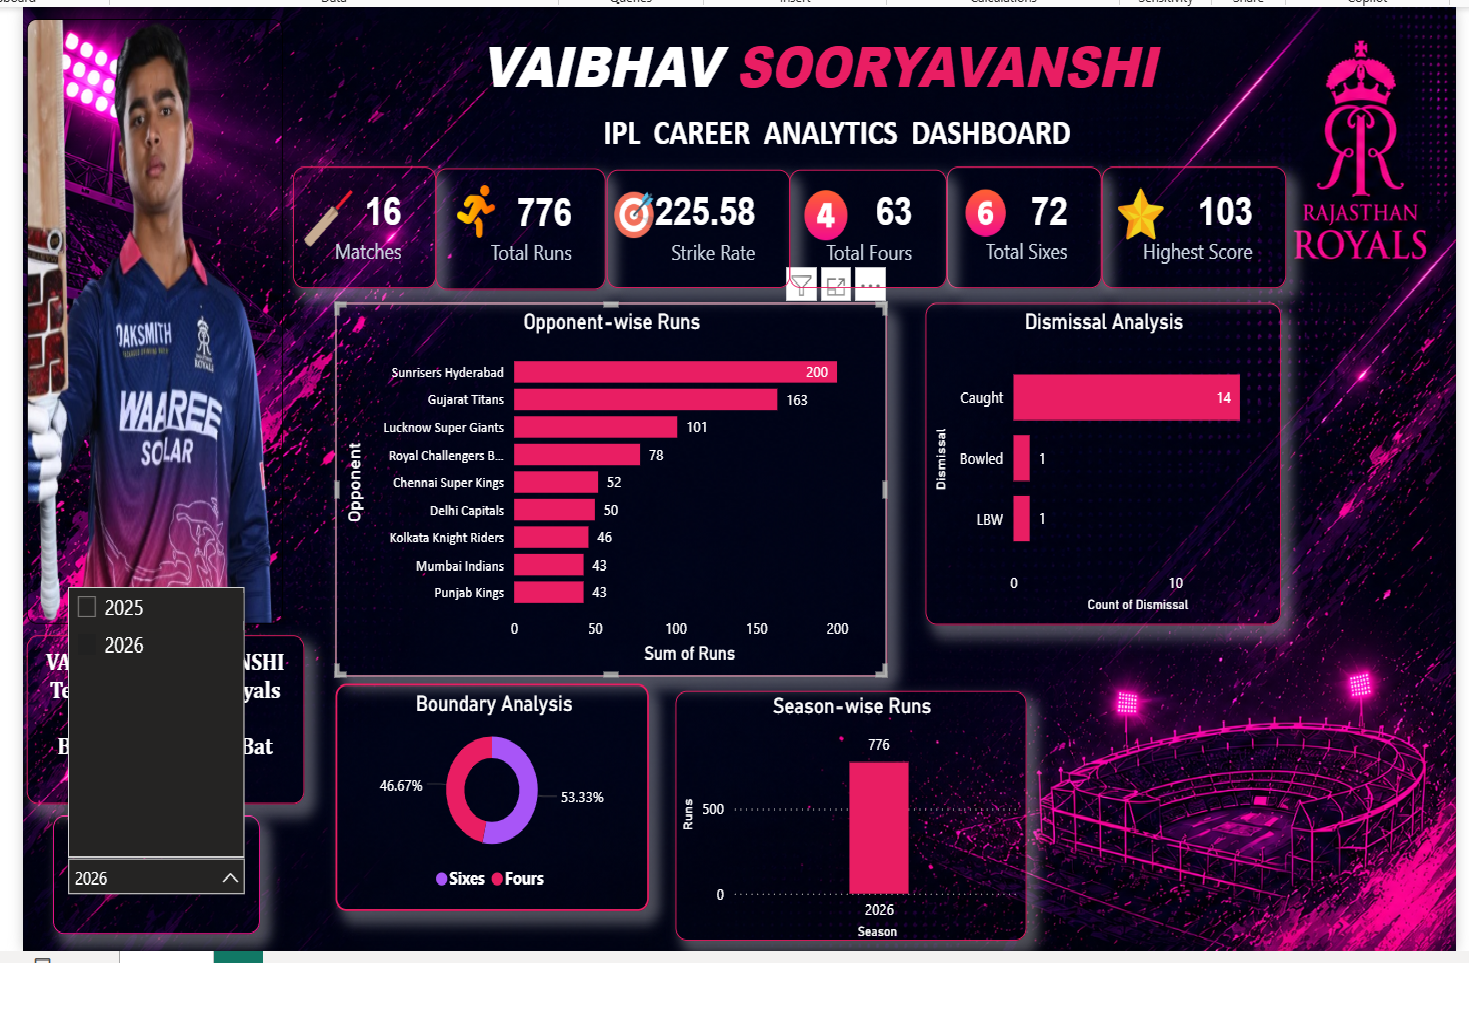

What the dashboard file says about the page in this screenshot:
{"tool":"powerbi","page":{"name":"Page 1","canvas":[1280,720],"ordinal":0},"visuals":[{"type":"cardVisual","fields":{"Data":["Vaibhav_Sooryavanshi_IPL_Dataset.Matches"]},"box":[240.7,122.1,127.9,93],"z":0},{"type":"barChart","title":"Opponent-wise Runs","fields":{"Category":["Vaibhav_Sooryavanshi_IPL_Dataset.Opponent"],"Y":["Sum(Vaibhav_Sooryavanshi_IPL_Dataset.Runs)"]},"box":[279.2,225.6,492.4,284.7],"z":1000},{"type":"clusteredColumnChart","title":"Season-wise Runs","fields":{"Category":["Vaibhav_Sooryavanshi_IPL_Dataset.Date.Variation.Date Hierarchy.Year"],"Y":["Vaibhav_Sooryavanshi_IPL_Dataset.Total Runs"]},"box":[582.6,520.9,314,190.7],"z":2000},{"type":"slicer","fields":{"Values":["Vaibhav_Sooryavanshi_IPL_Dataset.Season"]},"box":[26.7,616.3,184.9,90.7],"z":3000},{"type":"clusteredBarChart","title":"Dismissal Analysis","fields":{"Category":["Vaibhav_Sooryavanshi_IPL_Dataset.Dismissal"],"Y":["CountNonNull(Vaibhav_Sooryavanshi_IPL_Dataset.Dismissal)"]},"box":[805.8,225.6,317.4,245.3],"z":4000},{"type":"textbox","box":[3.5,479.1,247.7,129.1],"z":5000},{"type":"donutChart","title":"Boundary Analysis","fields":{"Category":["BoundaryType.BoundaryType"],"Y":["BoundaryType.Boundary Count"]},"box":[279.1,516.3,280.2,173.3],"z":6000},{"type":"cardVisual","fields":{"Data":["Vaibhav_Sooryavanshi_IPL_Dataset.Total Runs"]},"box":[368.6,123.3,152.3,93],"z":7000},{"type":"cardVisual","fields":{"Data":["Vaibhav_Sooryavanshi_IPL_Dataset.Strike Rate"]},"box":[520.9,124.4,164,90.7],"z":8000},{"type":"cardVisual","fields":{"Data":["Vaibhav_Sooryavanshi_IPL_Dataset.Total Sixes"]},"box":[825.6,122.1,138.4,93],"z":9000},{"type":"cardVisual","fields":{"Data":["Vaibhav_Sooryavanshi_IPL_Dataset.Highest Score"]},"box":[964,122.1,165.1,93],"z":10000},{"type":"cardVisual","fields":{"Data":["Vaibhav_Sooryavanshi_IPL_Dataset.Total Fours"]},"box":[684.9,124.4,140.7,90.7],"z":11000},{"type":"image","box":[527.9,132.6,34.9,51.2],"z":12000},{"type":"image","box":[251.2,136,43,50],"z":13000},{"type":"image","box":[977.9,137.2,40.7,40.7],"z":14000},{"type":"image","box":[695.4,139.5,43,38.4],"z":15000},{"type":"image","box":[381.4,125.6,45.3,61.6],"z":16000},{"type":"image","box":[841.9,131.4,36,50],"z":17000},{"type":"image","box":[3.5,9.3,229.1,461.6],"z":18000},{"type":"textbox","box":[404.7,9.3,636,80.2],"z":19000},{"type":"textbox","box":[514,73.3,450,48.8],"z":20000}]}

Visuals, with their boxes on the page's 1280x720 design canvas (x1, y1, x2, y2). These are canvas units, not pixel positions in the 1469x1011 screenshot, which may show the page scaled, cropped or inside an application window:
cardVisual - Vaibhav_Sooryavanshi_IPL_Dataset.Matches: (241,122,369,215)
"Opponent-wise Runs" barChart: (279,226,772,510)
"Season-wise Runs" clusteredColumnChart: (583,521,897,712)
slicer - Vaibhav_Sooryavanshi_IPL_Dataset.Season: (27,616,212,707)
"Dismissal Analysis" clusteredBarChart: (806,226,1123,471)
textbox: (4,479,251,608)
"Boundary Analysis" donutChart: (279,516,559,690)
cardVisual - Vaibhav_Sooryavanshi_IPL_Dataset.Total Runs: (369,123,521,216)
cardVisual - Vaibhav_Sooryavanshi_IPL_Dataset.Strike Rate: (521,124,685,215)
cardVisual - Vaibhav_Sooryavanshi_IPL_Dataset.Total Sixes: (826,122,964,215)
cardVisual - Vaibhav_Sooryavanshi_IPL_Dataset.Highest Score: (964,122,1129,215)
cardVisual - Vaibhav_Sooryavanshi_IPL_Dataset.Total Fours: (685,124,826,215)
image: (528,133,563,184)
image: (251,136,294,186)
image: (978,137,1019,178)
image: (695,140,738,178)
image: (381,126,427,187)
image: (842,131,878,181)
image: (4,9,233,471)
textbox: (405,9,1041,90)
textbox: (514,73,964,122)
